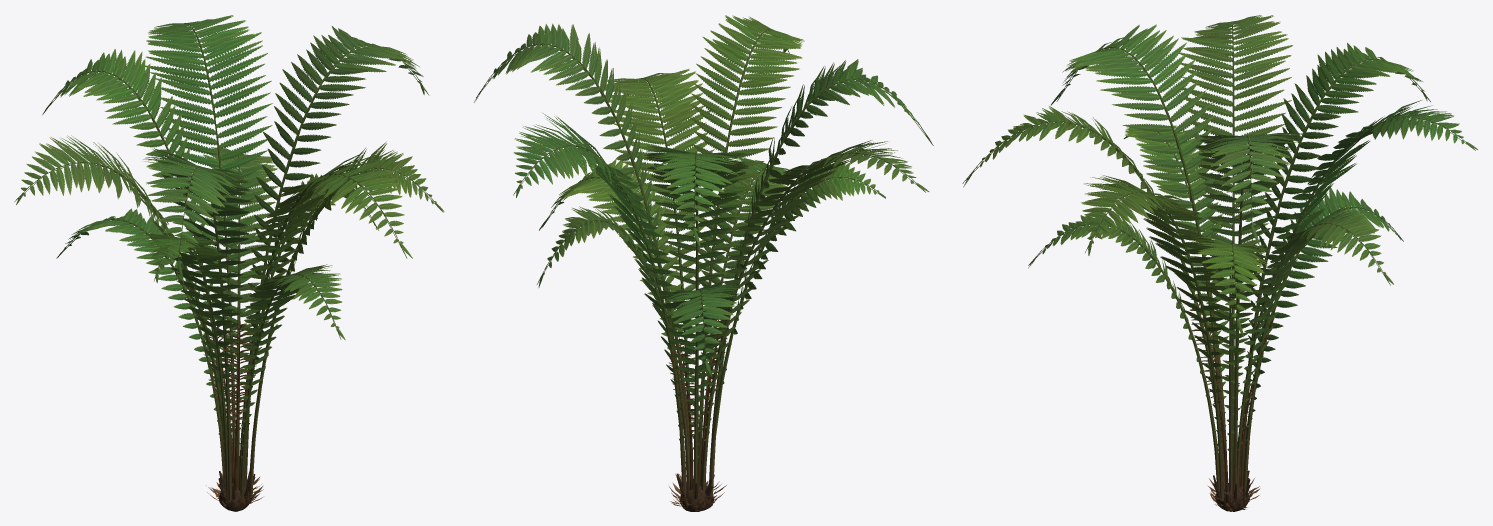
File: creek_ostrich_fern.glb
3 renders of one model, left to right at view 1: azimuth 30°, elevation 25°; view 2: azimuth 150°, elevation 25°; view 3: azimuth 270°, elevation 25°, orthographic. The views are drawn at different scales.
Parts seen in each view (by area): view 1: FernMatureNear, FernMatureFar, FernYoungNear, FernYoungFar; view 2: FernMatureNear, FernMatureFar, FernYoungNear, FernYoungFar; view 3: FernMatureNear, FernMatureFar, FernYoungNear, FernYoungFar.
Boxes of the visible parts, bbox=[...] form: FernMatureNear: bbox=[14, 15, 444, 511]; FernMatureFar: bbox=[15, 16, 443, 511]; FernYoungNear: bbox=[56, 147, 378, 505]; FernYoungFar: bbox=[57, 148, 376, 506]; FernMatureNear: bbox=[474, 15, 933, 511]; FernMatureFar: bbox=[474, 16, 932, 511]; FernYoungNear: bbox=[537, 157, 885, 507]; FernYoungFar: bbox=[537, 158, 885, 505]; FernMatureNear: bbox=[962, 15, 1478, 511]; FernMatureFar: bbox=[963, 16, 1477, 511]; FernYoungNear: bbox=[1028, 125, 1403, 508]; FernYoungFar: bbox=[1029, 127, 1403, 505].
Bounding box in the file's own units: 1.02 × 0.9704 × 1.04.
1 material, 1 textured.
